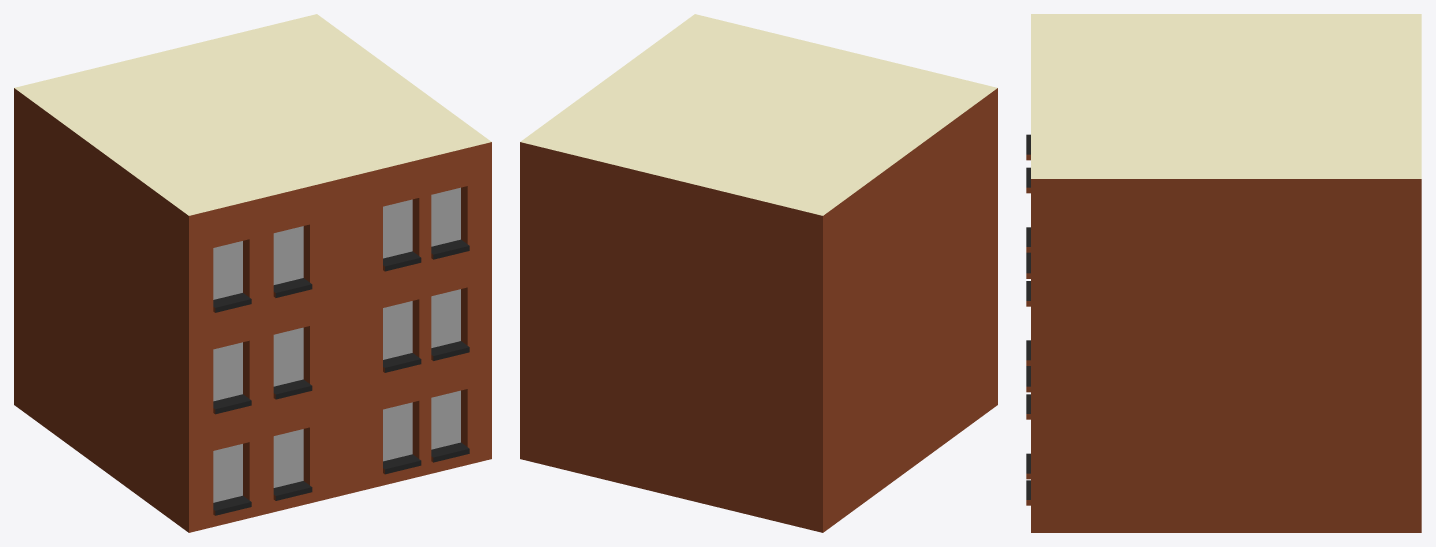
The model's file is residential-basic-floor.obj.
The picture shows the model from 3 angles, left to right: view 1: azimuth 30°, elevation 25°; view 2: azimuth 150°, elevation 25°; view 3: azimuth 270°, elevation 25°; orthographic projection. The views are drawn at different scales.
Visible parts, largest first — view 1: Cube; view 2: Cube; view 3: Cube.
Part boxes in pixels (x1=…): Cube: x1=14, y1=14, x2=491, y2=532; Cube: x1=520, y1=14, x2=997, y2=532; Cube: x1=1026, y1=14, x2=1421, y2=532.
Size of the model in its own units: 2 by 2 by 2.02.
